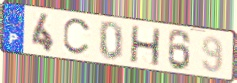0: (98, 21, 125, 62)
4: (30, 12, 56, 55)
6: (167, 28, 192, 72)
9: (200, 34, 226, 74)
C: (61, 18, 93, 58)
H: (128, 24, 162, 68)
